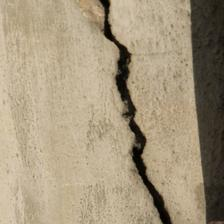Crack: (48, 1, 126, 220)
